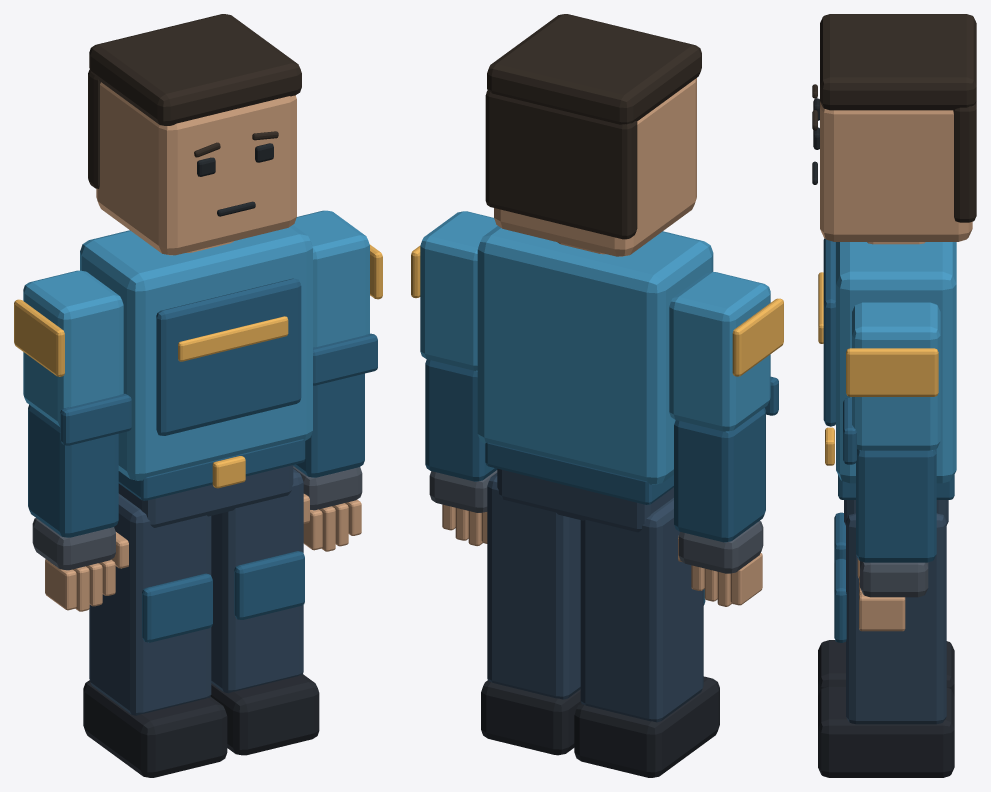
The model's file is player_block.glb.
3 views of the same model, side by side, from view 1: azimuth 30°, elevation 25°; view 2: azimuth 150°, elevation 25°; view 3: azimuth 270°, elevation 25° (orthographic).
Visible parts, largest first — view 1: Torso, Head, LeftLeg, Chest_Vest, Hair_Top, RightLeg, LeftUpperArm, LeftForearm, LeftShoe, RightUpperArm, RightShoe, RightForearm (+15 smaller); view 2: Torso, LeftLeg, RightLeg, Hair_Back, Hair_Top, LeftUpperArm, Head, LeftForearm, RightUpperArm, LeftShoe, RightForearm, RightShoe (+6 smaller); view 3: Head, Hair_Top, RightLeg, Torso, RightForearm, RightUpperArm, RightShoe, Right_Shoulder_Patch, Hair_Back, RightPalm, Chest_Vest, LeftShoe (+8 smaller).
Boxes of the visible parts, x1,y1,x2,y2 form: Torso: (80, 225, 312, 480); Head: (96, 82, 296, 255); LeftLeg: (89, 493, 211, 715); Chest_Vest: (156, 278, 301, 435); Hair_Top: (89, 14, 301, 125); RightLeg: (211, 469, 303, 693); LeftUpperArm: (23, 270, 123, 426); LeftForearm: (28, 404, 118, 537); LeftShoe: (83, 680, 227, 777); RightUpperArm: (293, 210, 369, 347); RightShoe: (210, 674, 319, 755); RightForearm: (293, 373, 364, 477); Torso: (477, 226, 713, 484); LeftLeg: (580, 498, 703, 722); RightLeg: (487, 473, 580, 699); Hair_Back: (485, 90, 637, 239); Hair_Top: (487, 14, 701, 124); LeftUpperArm: (669, 272, 770, 431); Head: (494, 78, 696, 256); LeftForearm: (674, 408, 765, 542); RightUpperArm: (420, 211, 497, 370); LeftShoe: (574, 676, 719, 777); RightForearm: (425, 359, 497, 481); RightShoe: (481, 680, 580, 755); Head: (820, 101, 972, 241); Hair_Top: (820, 14, 976, 110); RightLeg: (846, 513, 946, 724); Torso: (836, 242, 956, 483); RightForearm: (856, 449, 936, 562); RightUpperArm: (852, 302, 940, 450); RightShoe: (818, 686, 954, 777); Right_Shoulder_Patch: (846, 348, 938, 396); Hair_Back: (953, 101, 976, 222); RightPalm: (860, 561, 928, 597); Chest_Vest: (823, 238, 835, 426); LeftShoe: (818, 640, 954, 695).
Bounding box in the file's own units: 0.955 × 1.9 × 0.409.
